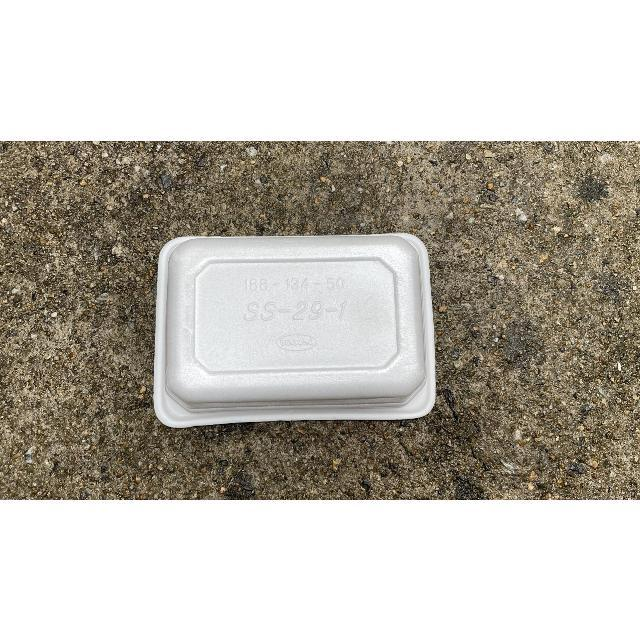Recipiente plastico: (154, 234, 435, 428)
